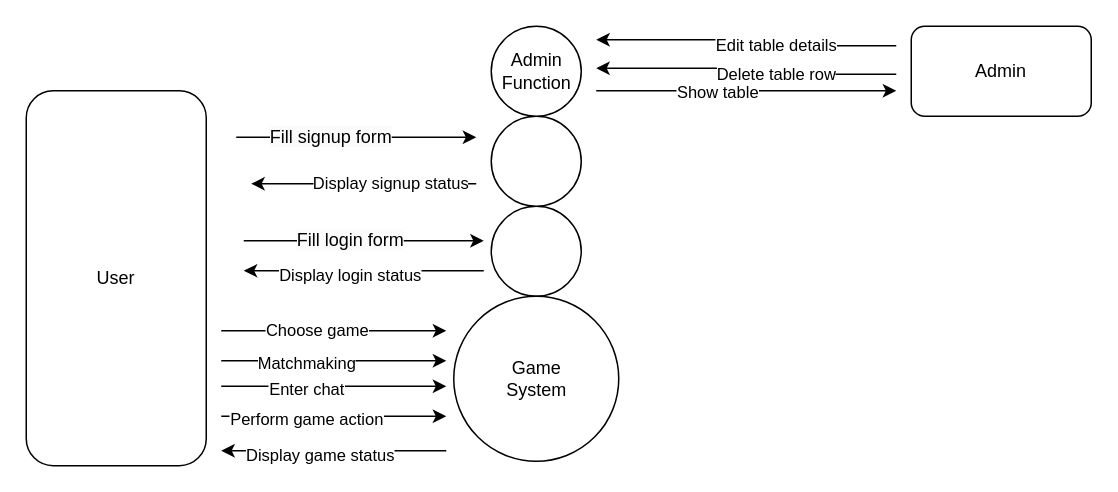
Image size: 1118x492. Some labels were removed from this diagram. The shapes that lost their labels are listed below. From the top down, each one's box as (x1, y1, x2, y2) in pixels, then its label:
(490, 115, 581, 206): Signup System
(490, 205, 581, 296): Login System
